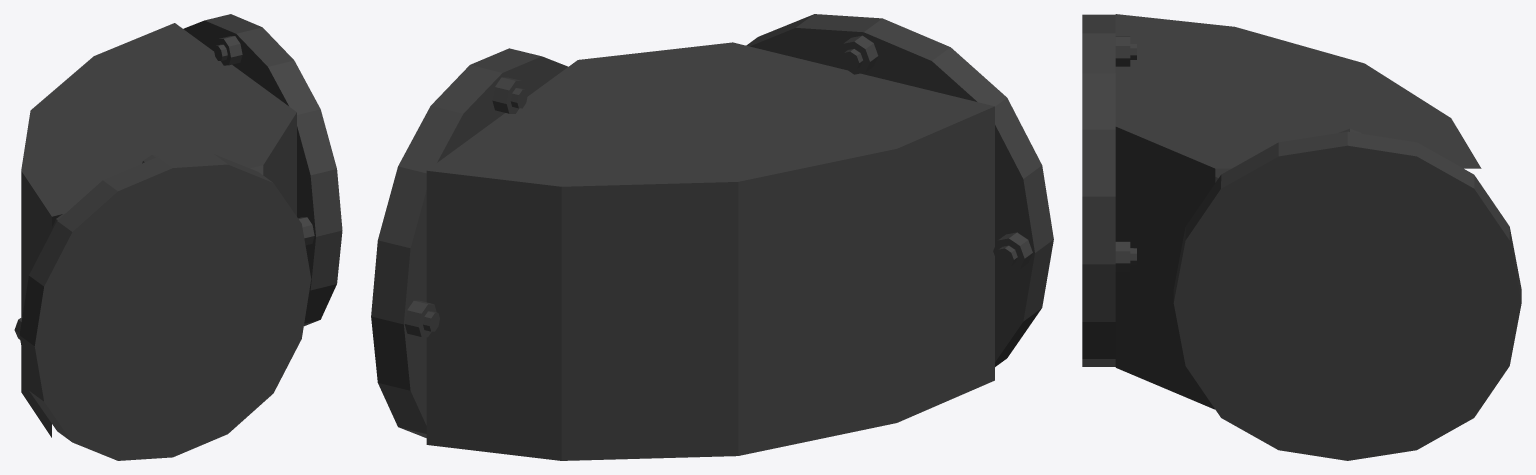
The picture shows the model from 3 angles, left to right: view 1: azimuth 30°, elevation 25°; view 2: azimuth 150°, elevation 25°; view 3: azimuth 270°, elevation 25°; orthographic projection. The views are drawn at different scales.
Visible parts, largest first — view 1: world; view 2: world; view 3: world.
Boxes of the visible parts, x1=… form: world: x1=14, y1=14, x2=342, y2=460; world: x1=371, y1=14, x2=1053, y2=460; world: x1=1082, y1=14, x2=1521, y2=460.
Size of the model in its own units: 0.8266 by 0.6536 by 0.8252.
1 material, 1 textured.
